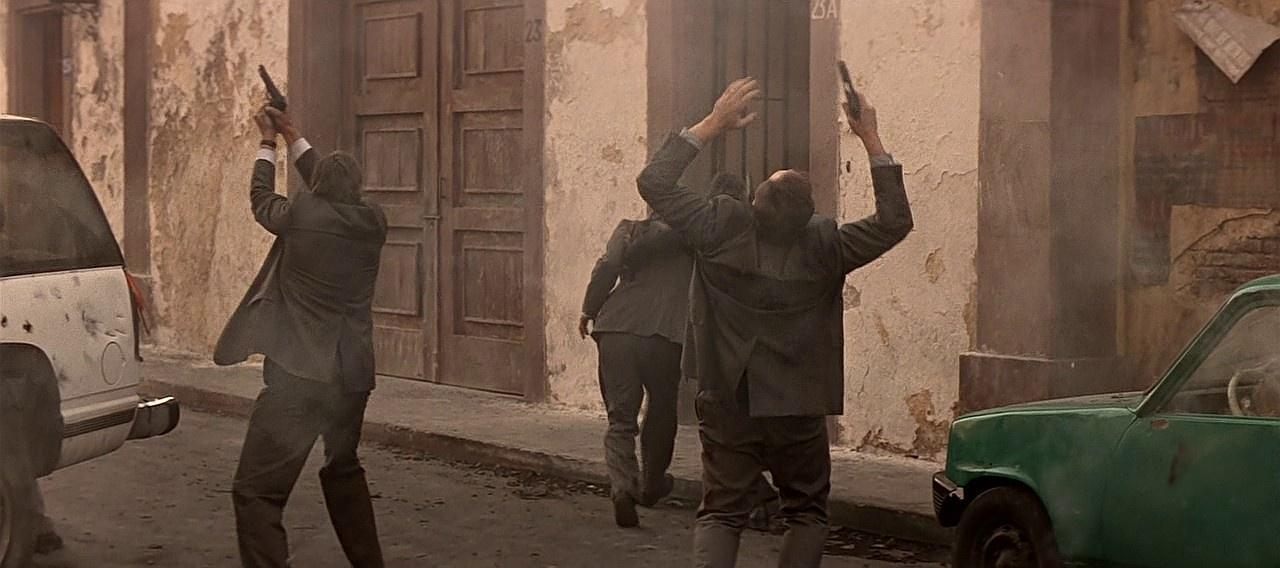gun: (820, 51, 874, 147), (236, 57, 293, 145)
